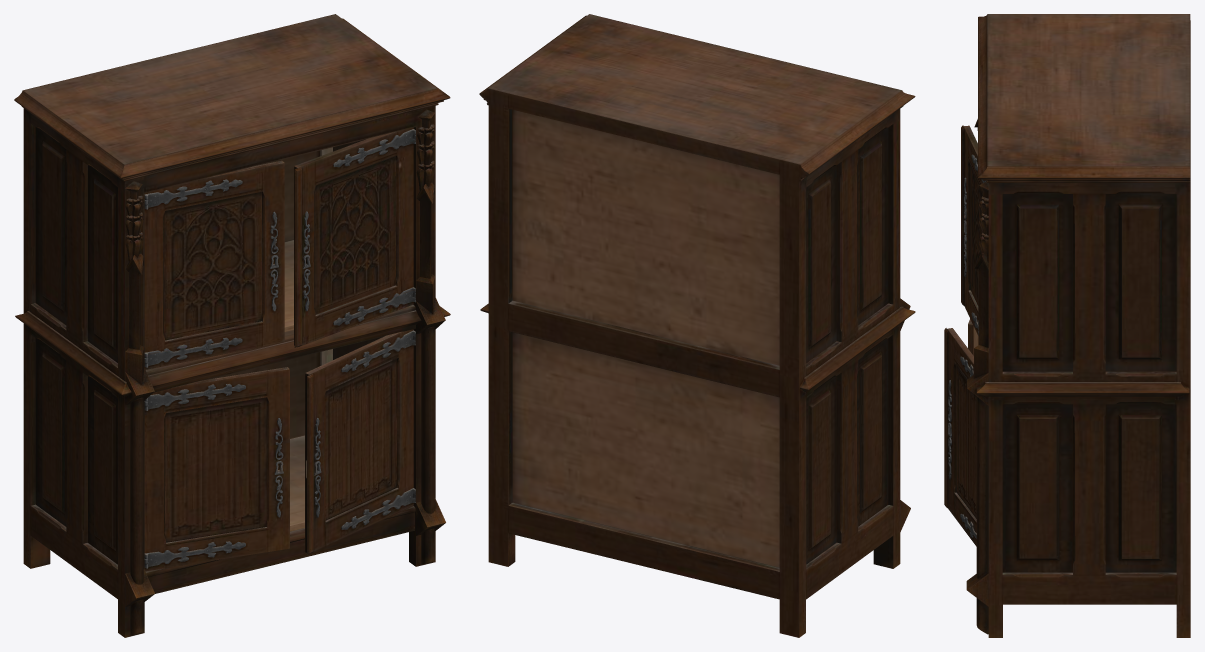
File: gothiccabinet_01.glb
3 renders of one model, left to right at view 1: azimuth 30°, elevation 25°; view 2: azimuth 150°, elevation 25°; view 3: azimuth 270°, elevation 25°, orthographic.
Parts seen in each view (by area): view 1: GothicCabinet_01_cabinet, GothicCabinet_01_door3, GothicCabinet_01_door1, GothicCabinet_01_door2, GothicCabinet_01_door4; view 2: GothicCabinet_01_cabinet; view 3: GothicCabinet_01_cabinet, GothicCabinet_01_door4, GothicCabinet_01_door2.
Part boxes in pixels (bbox=[...]): GothicCabinet_01_cabinet: bbox=[14, 14, 450, 637]; GothicCabinet_01_door3: bbox=[144, 367, 289, 571]; GothicCabinet_01_door1: bbox=[144, 160, 284, 369]; GothicCabinet_01_door2: bbox=[294, 127, 415, 347]; GothicCabinet_01_door4: bbox=[305, 329, 415, 554]; GothicCabinet_01_cabinet: bbox=[479, 14, 915, 637]; GothicCabinet_01_cabinet: bbox=[966, 14, 1190, 637]; GothicCabinet_01_door4: bbox=[944, 328, 976, 546]; GothicCabinet_01_door2: bbox=[961, 125, 986, 335].
Size of the model in its own units: 1.72 by 2.36 by 1.12.
1 material, 1 textured.
